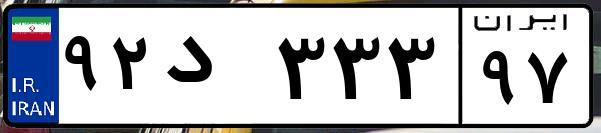2: (110, 28, 158, 98)
3: (270, 28, 330, 110), (385, 28, 445, 110), (330, 28, 385, 110)
7: (525, 38, 570, 115)
9: (57, 26, 110, 100), (475, 38, 525, 113)
د: (158, 20, 270, 120)
